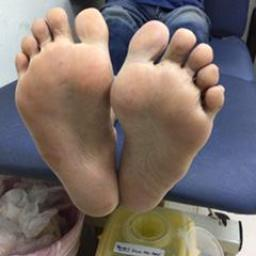Plantar View -Both Feet-: (7, 3, 236, 223)
